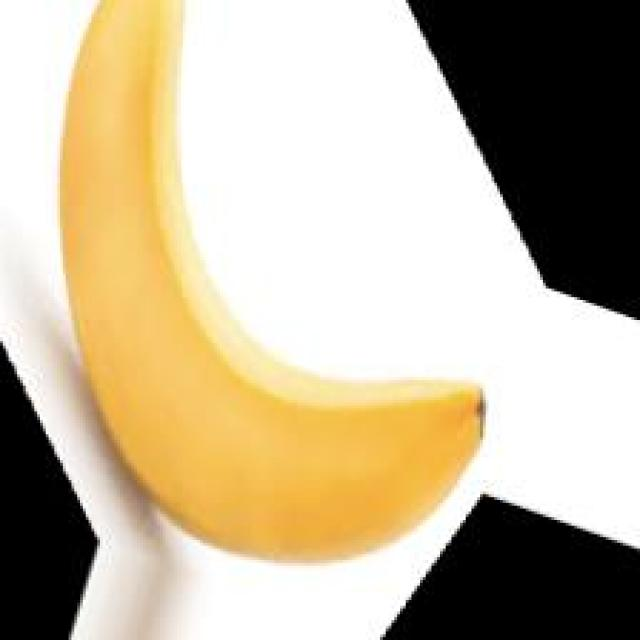banana: (34, 8, 494, 585)
